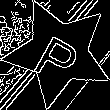P_NE: (30, 22, 87, 84)
